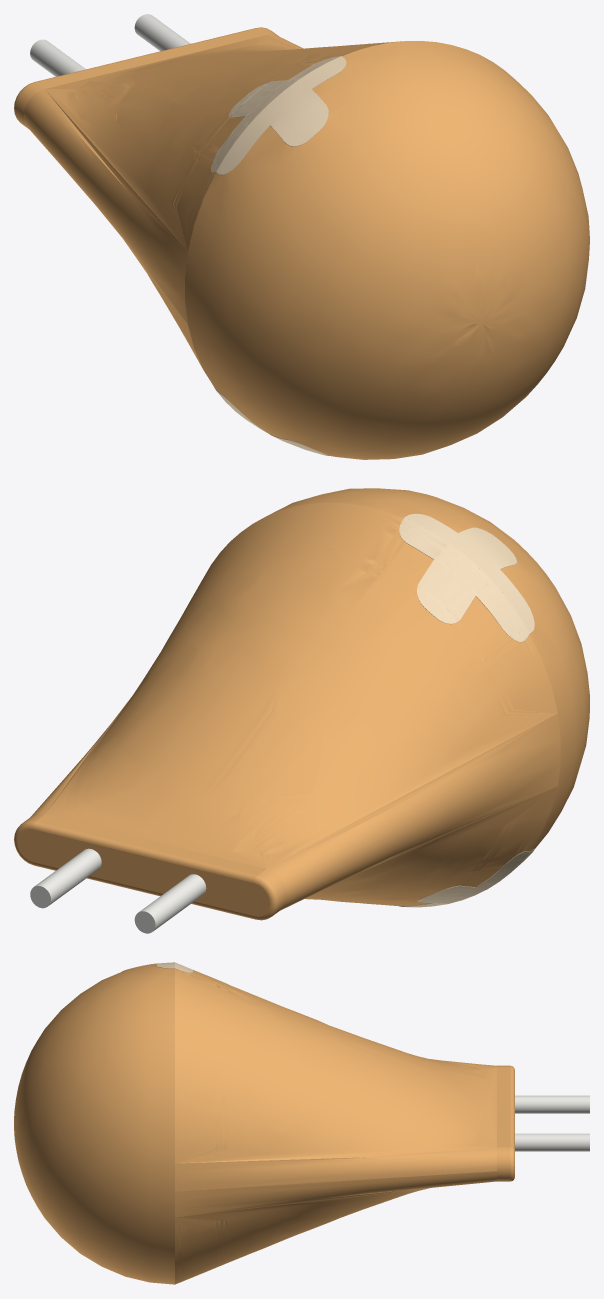
The model's file is CP_Radial_Tantal_D9.0mm_P2.50mm.glb.
The picture shows the model from 3 angles, top to bottom: view 1: azimuth 30°, elevation 25°; view 2: azimuth 150°, elevation 25°; view 3: azimuth 270°, elevation 25°; orthographic projection. The views are drawn at different scales.
Parts seen in each view (by area): view 1: Shape_IndexedFaceSet.022, Shape_IndexedFaceSet.023, Shape_IndexedFaceSet.038, Shape_IndexedFaceSet.001, Shape_IndexedFaceSet.039, Shape_IndexedFaceSet, Shape_IndexedFaceSet.059, Shape_IndexedFaceSet.060, Shape_IndexedFaceSet.026; view 2: Shape_IndexedFaceSet.023, Shape_IndexedFaceSet.038, Shape_IndexedFaceSet.022, Shape_IndexedFaceSet.026, Shape_IndexedFaceSet.058, Shape_IndexedFaceSet, Shape_IndexedFaceSet.001, Shape_IndexedFaceSet.039, Shape_IndexedFaceSet.054, Shape_IndexedFaceSet.059, Shape_IndexedFaceSet.060, Shape_IndexedFaceSet.051 (+2 smaller); view 3: Shape_IndexedFaceSet.023, Shape_IndexedFaceSet.022, Shape_IndexedFaceSet.024, Shape_IndexedFaceSet.026, Shape_IndexedFaceSet.025, Shape_IndexedFaceSet.059, Shape_IndexedFaceSet.060, Shape_IndexedFaceSet.039, Shape_IndexedFaceSet.040.
Part boxes in pixels (x1,y1,x2,y2): Shape_IndexedFaceSet.022: (185, 41, 589, 459); Shape_IndexedFaceSet.023: (45, 35, 401, 251); Shape_IndexedFaceSet.038: (24, 89, 187, 323); Shape_IndexedFaceSet.001: (216, 56, 346, 174); Shape_IndexedFaceSet.039: (36, 28, 265, 88); Shape_IndexedFaceSet: (211, 56, 340, 172); Shape_IndexedFaceSet.059: (134, 14, 190, 51); Shape_IndexedFaceSet.060: (30, 39, 85, 76); Shape_IndexedFaceSet.026: (124, 118, 230, 368); Shape_IndexedFaceSet.023: (45, 502, 557, 868); Shape_IndexedFaceSet.038: (267, 713, 560, 909); Shape_IndexedFaceSet.022: (268, 488, 589, 851); Shape_IndexedFaceSet.026: (305, 786, 557, 906); Shape_IndexedFaceSet.058: (17, 828, 269, 916); Shape_IndexedFaceSet: (399, 518, 529, 641); Shape_IndexedFaceSet.001: (404, 513, 534, 633); Shape_IndexedFaceSet.039: (36, 815, 265, 875); Shape_IndexedFaceSet.054: (32, 821, 256, 882); Shape_IndexedFaceSet.059: (34, 848, 101, 905); Shape_IndexedFaceSet.060: (139, 874, 206, 931); Shape_IndexedFaceSet.051: (401, 851, 529, 907); Shape_IndexedFaceSet.023: (175, 968, 496, 1163); Shape_IndexedFaceSet.022: (14, 964, 174, 1284); Shape_IndexedFaceSet.024: (175, 1147, 496, 1191); Shape_IndexedFaceSet.026: (175, 1188, 429, 1284); Shape_IndexedFaceSet.025: (175, 1171, 496, 1217); Shape_IndexedFaceSet.059: (515, 1133, 589, 1151); Shape_IndexedFaceSet.060: (515, 1095, 589, 1113); Shape_IndexedFaceSet.039: (497, 1067, 510, 1147); Shape_IndexedFaceSet.040: (497, 1147, 510, 1181).
Size of the model in its own units: 3.54 by 3.54 by 6.34.
